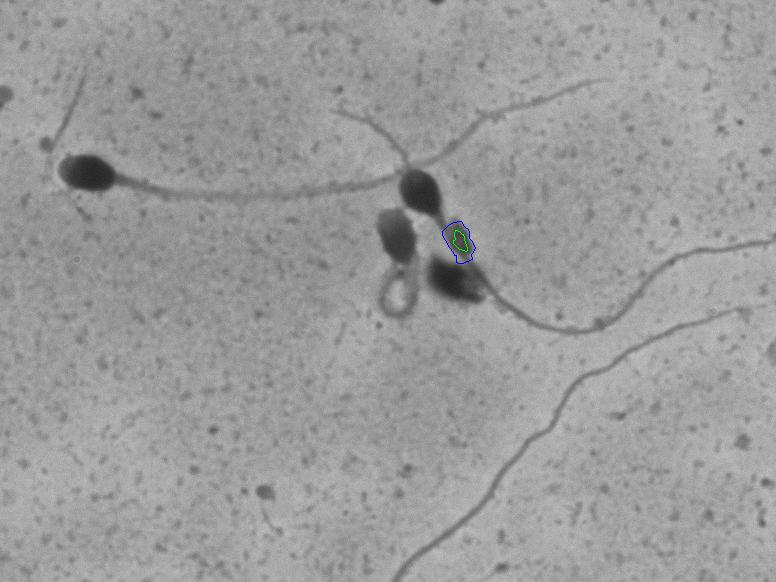Abnormal: (340, 203, 423, 349)
Normal: (20, 57, 637, 218)
